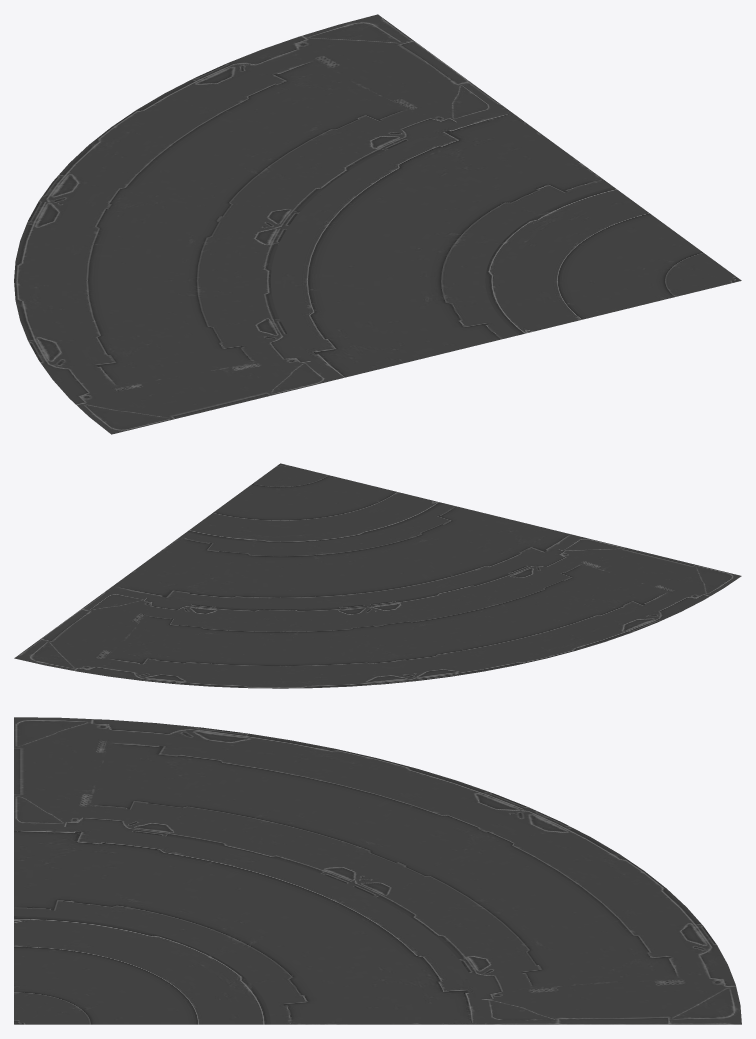
File: platform_darkplates_curves.gltf
3 views of the same model, one above another, from view 1: azimuth 30°, elevation 25°; view 2: azimuth 150°, elevation 25°; view 3: azimuth 270°, elevation 25° (orthographic). The views are drawn at different scales.
Visible parts, largest first — view 1: Platform_DarkPlates_Curves; view 2: Platform_DarkPlates_Curves; view 3: Platform_DarkPlates_Curves.
Boxes of the visible parts, bbox=[...] form: Platform_DarkPlates_Curves: bbox=[14, 14, 741, 434]; Platform_DarkPlates_Curves: bbox=[14, 463, 741, 688]; Platform_DarkPlates_Curves: bbox=[14, 717, 741, 1024].
Size of the model in its own units: 4 by 0 by 4.
Materials: 1 (1 with a texture image).
